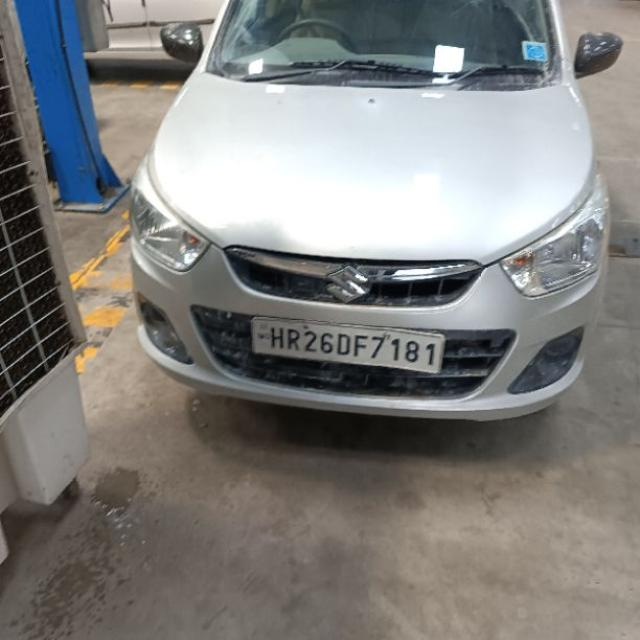license_plate: (249, 315, 445, 374)
